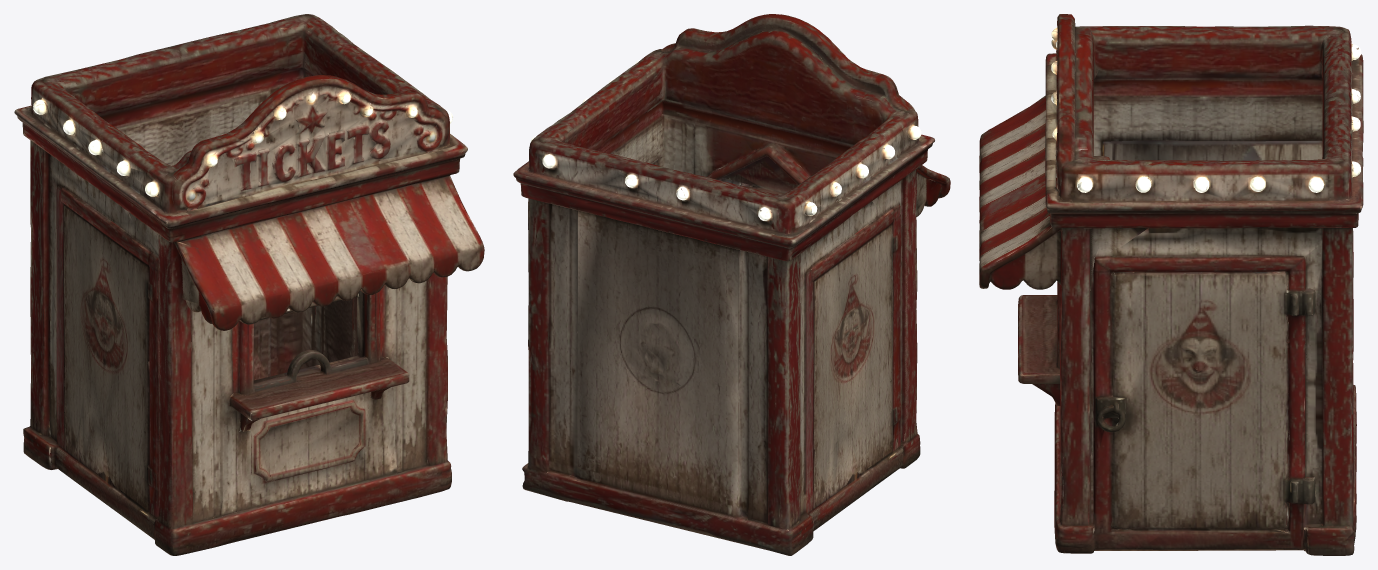
Rendered from Meshy_AI_Weathered_Carnival_Ti_0507174433_texture.fbx.
The picture shows the model from 3 angles, left to right: view 1: azimuth 30°, elevation 25°; view 2: azimuth 150°, elevation 25°; view 3: azimuth 270°, elevation 25°; orthographic projection. The views are drawn at different scales.
Visible parts, largest first — view 1: Mesh1.0; view 2: Mesh1.0; view 3: Mesh1.0.
Part boxes in pixels (<box>): Mesh1.0: <box>14,14,484,555</box>; Mesh1.0: <box>513,14,950,555</box>; Mesh1.0: <box>979,14,1363,555</box>.
Size of the model in its own units: 139 by 191 by 146.
Materials: 1 (1 with a texture image).
